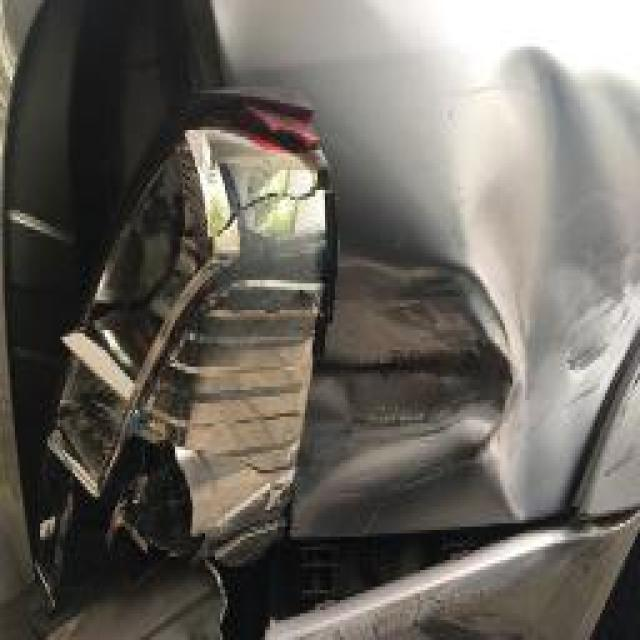Fender: (330, 0, 640, 640)
Light: (32, 100, 315, 570)
